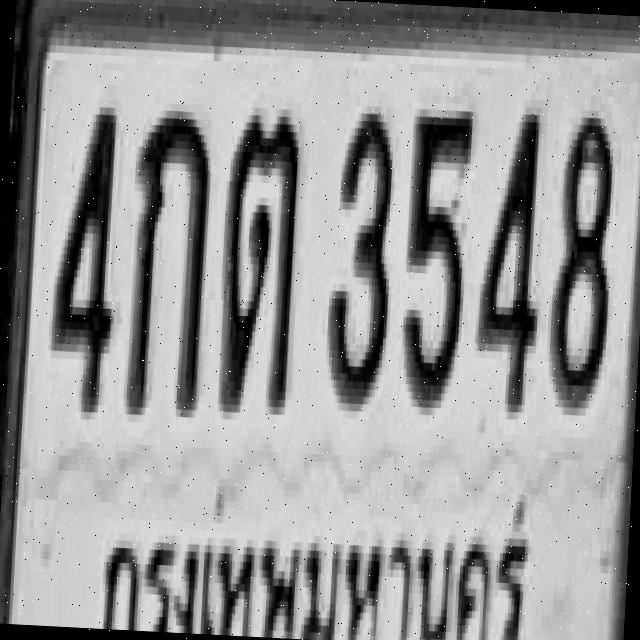10GorGai: (124, 102, 213, 418)
3: (322, 105, 397, 405)
30TorTao: (216, 107, 304, 415)
4: (46, 98, 124, 413), (473, 105, 547, 414)
5: (398, 102, 474, 410)
8: (547, 109, 618, 409)
Bangkok: (97, 510, 545, 640)
